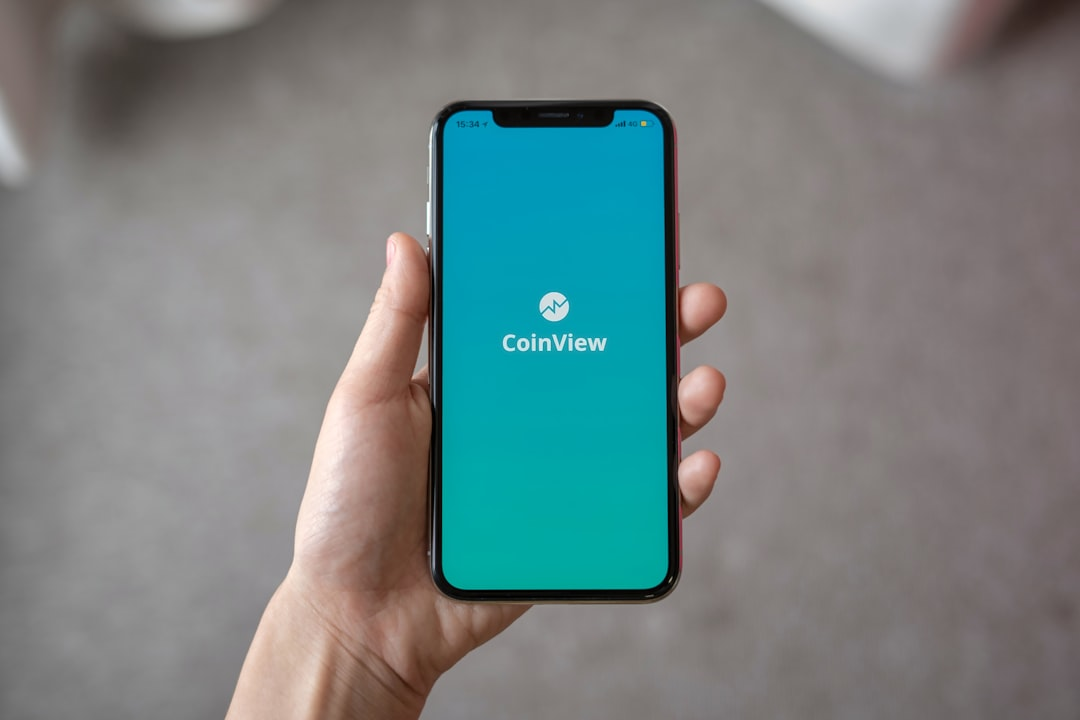phone: (425, 104, 683, 607)
